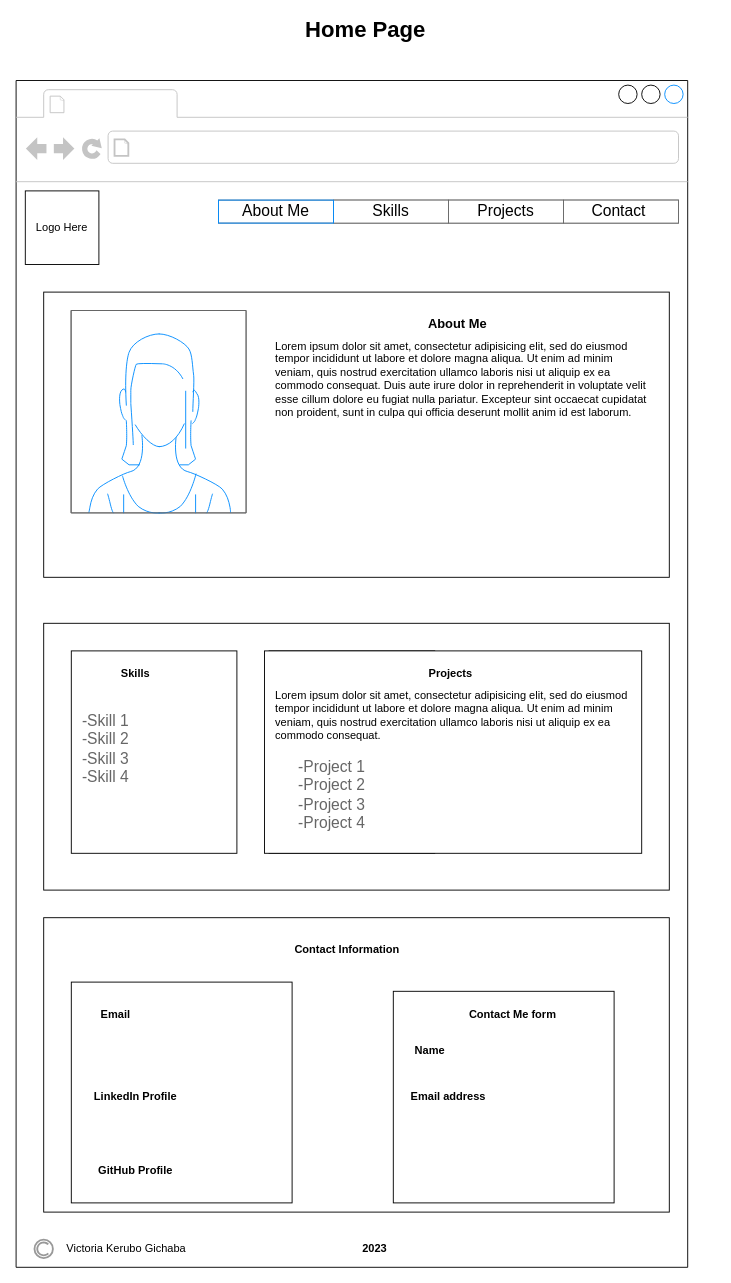
This 731x1283 diagram has some shape labels left out. The shapes that lost their labels are listed below. From the top down, each one's centre as x and y in pixels, then its label:
(x=121, y=103): Page 1
(x=250, y=147): www.victoriakerubo.com
(x=158, y=411): My passport Photo here
